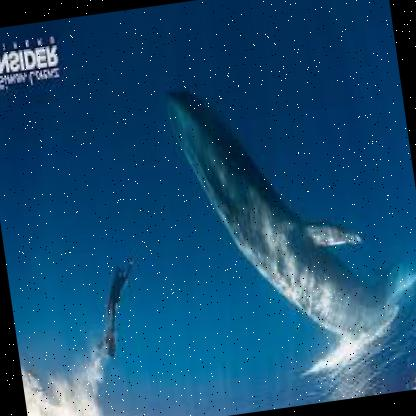blue_whale: (156, 34, 402, 358)
